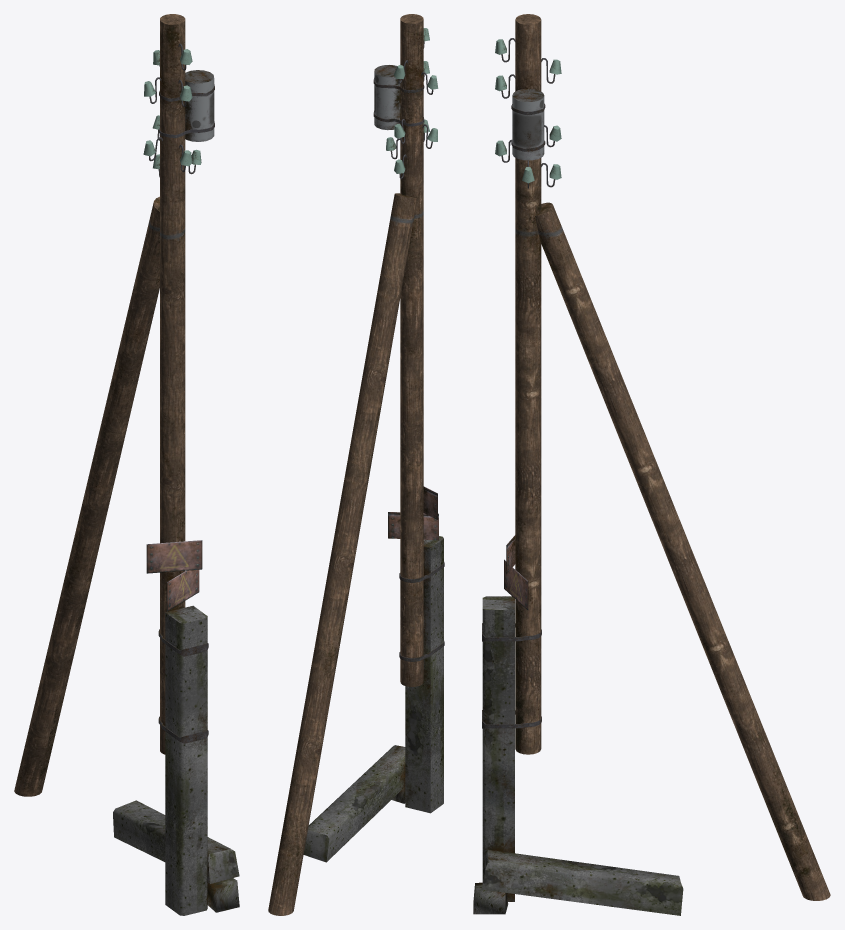
The model's file is electricity_pole.glb.
3 views of the same model, side by side, from view 1: azimuth 30°, elevation 25°; view 2: azimuth 150°, elevation 25°; view 3: azimuth 270°, elevation 25° (orthographic). The views are drawn at different scales.
Parts seen in each view (by area): view 1: Box002; view 2: Box002; view 3: Box002.
Part boxes in pixels (x1,y1,x2,y2): Box002: [14, 14, 239, 915]; Box002: [268, 14, 444, 915]; Box002: [473, 14, 830, 915].
Size of the model in its own units: 534 by 6008 by 2220.
Materials: 1 (1 with a texture image).
